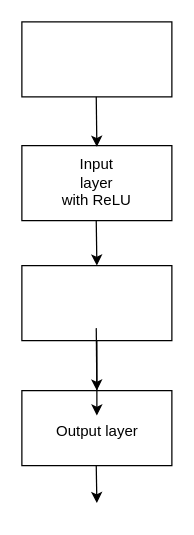
The diagram is 194 pixels wide and 535 high, and some of its shapes have lost their labels. Here are the shapes that lost their labels. From the top down, the centre of each, then its label:
At (x=96, y=59): "mUSE/LaBSE".
At (x=96, y=302): "Dropout".
